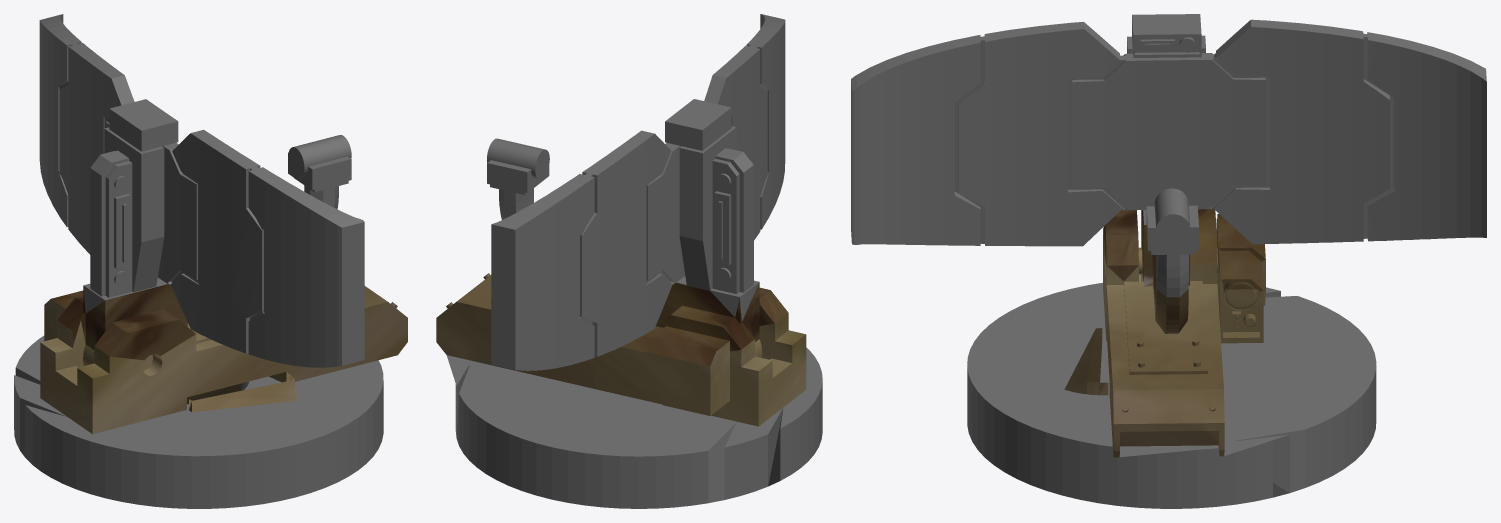
The model's file is Round_dish.glb.
3 renders of one model, left to right at view 1: azimuth 30°, elevation 25°; view 2: azimuth 150°, elevation 25°; view 3: azimuth 270°, elevation 25°, orthographic. The views are drawn at different scales.
Parts seen in each view (by area): view 1: 0_-_Chimera_Damacles_Radar_Assembly.001; view 2: 0_-_Chimera_Damacles_Radar_Assembly.001; view 3: 0_-_Chimera_Damacles_Radar_Assembly.001.
Part boxes in pixels (left/top/right/bottom): 0_-_Chimera_Damacles_Radar_Assembly.001: left=14, top=14, right=407, bottom=508; 0_-_Chimera_Damacles_Radar_Assembly.001: left=436, top=14, right=822, bottom=508; 0_-_Chimera_Damacles_Radar_Assembly.001: left=851, top=14, right=1486, bottom=508.
Size of the model in its own units: 1.08 by 1.02 by 1.56.
Materials: 2 (1 with a texture image).
